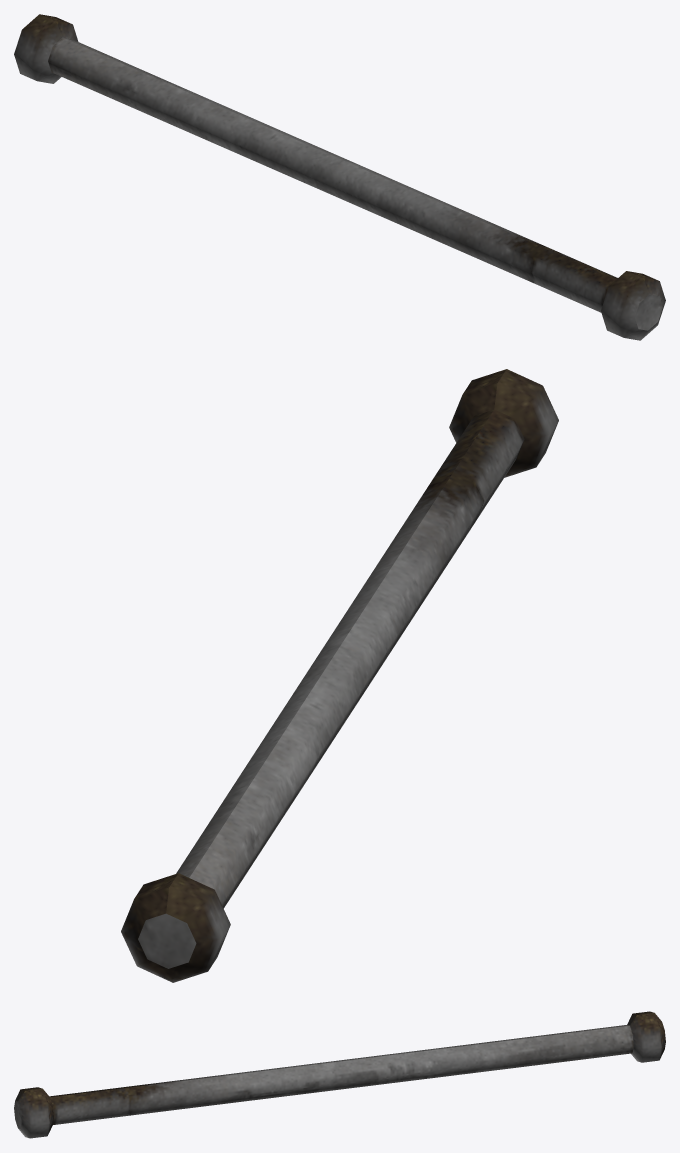
File: Vice_Handle_low.obj
The picture shows the model from 3 angles, top to bottom: view 1: azimuth 30°, elevation 25°; view 2: azimuth 150°, elevation 25°; view 3: azimuth 270°, elevation 25°; orthographic projection. The views are drawn at different scales.
Size of the model in its own units: 0.0867 by 0.0236 by 0.2584.
1 material, 1 textured.
